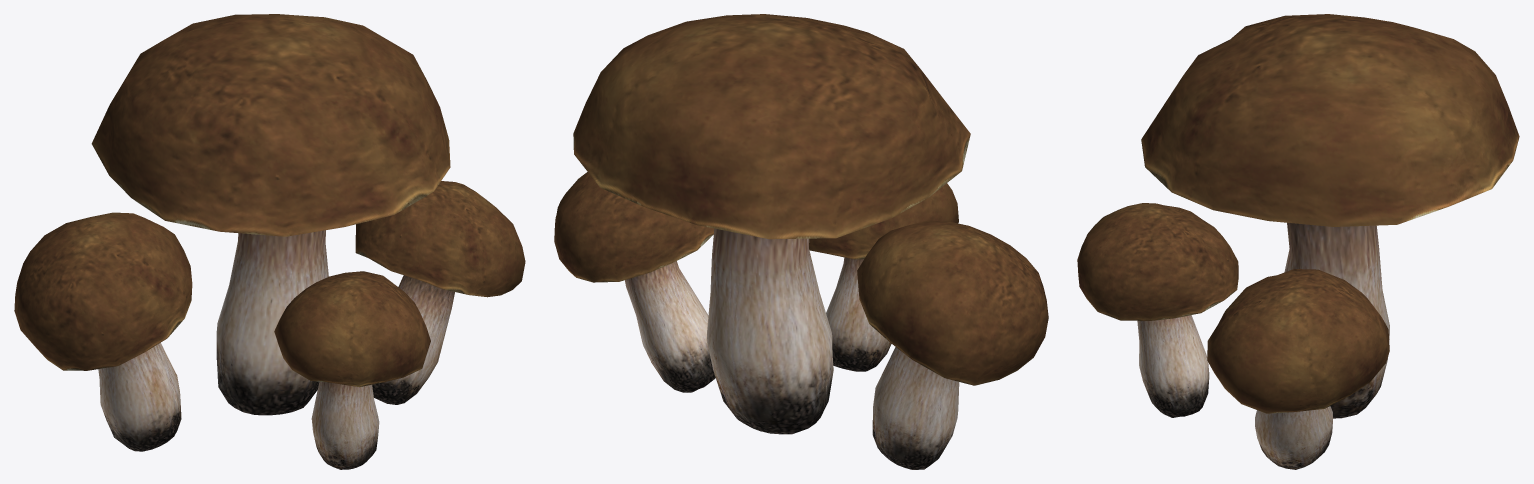
File: mogu.FBX
3 renders of one model, left to right at view 1: azimuth 30°, elevation 25°; view 2: azimuth 150°, elevation 25°; view 3: azimuth 270°, elevation 25°, orthographic. The views are drawn at different scales.
Parts seen in each view (by area): view 1: mogu; view 2: mogu; view 3: mogu.
Part boxes in pixels (x1,y1,x2,y2): mogu: (14,14,525,469); mogu: (554,14,1048,469); mogu: (1077,14,1519,469).
Size of the model in its own units: 18.82 by 14.45 by 15.16.
1 material, 1 textured.
